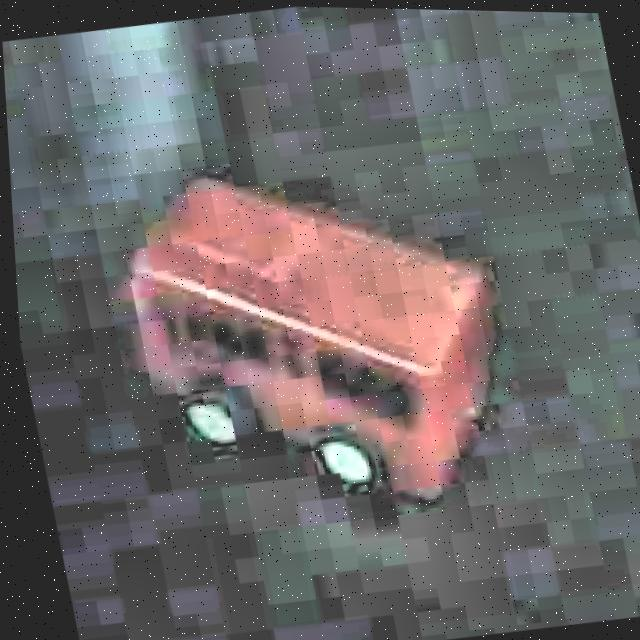bus: (97, 132, 539, 549)
